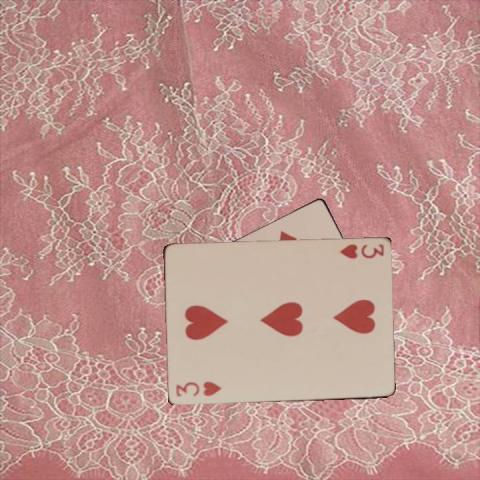3h: (337, 241, 385, 261), (173, 379, 222, 398)
